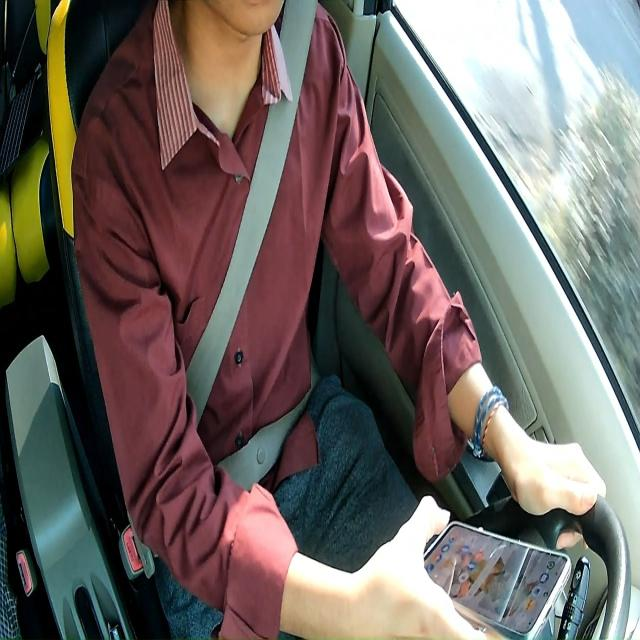phone: (420, 518, 572, 638)
